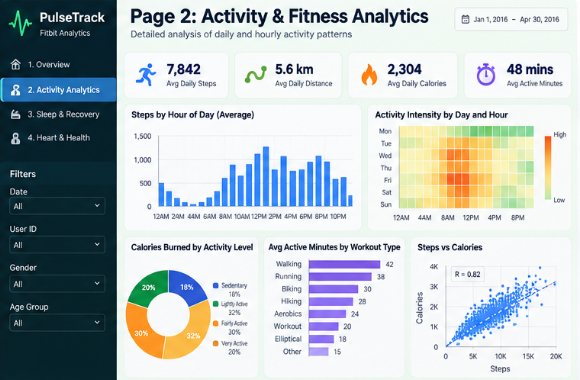

The dashboard page shown, as its layout file describes it:
{"tool":"powerbi","page":{"name":"Activity Analytics","canvas":[1280,720],"ordinal":1},"visuals":[{"type":"shape","box":[0,0,200,720],"z":0},{"type":"shape","box":[12,126,176,36],"z":1000},{"type":"textbox","box":[14,14,180.2,55.8],"z":2000},{"type":"textbox","box":[20,89,168,28],"z":3000},{"type":"textbox","box":[20,131,168,28],"z":4000},{"type":"textbox","box":[20,173,168,28],"z":5000},{"type":"textbox","box":[20,215,168,28],"z":6000},{"type":"actionButton","box":[12,84,176,36],"z":7000},{"type":"actionButton","box":[12,126,176,36],"z":8000},{"type":"actionButton","box":[12,168,176,36],"z":9000},{"type":"actionButton","box":[12,210,176,36],"z":10000},{"type":"textbox","box":[13.9,262.2,170.2,44.9],"z":11000},{"type":"slicer","title":"User ID","fields":{"Values":["dim_user.UserLabel"]},"box":[10.5,289.5,176.7,58.1],"z":12000},{"type":"slicer","title":"Activity Segment","fields":{"Values":["dim_user.ActivitySegment"]},"box":[12,358,176,58],"z":13000},{"type":"slicer","title":"Weekday","fields":{"Values":["dim_date.WeekdayName"]},"box":[12,422,176,58],"z":14000},{"type":"textbox","box":[216.2,0,704.2,54.6],"z":15000},{"type":"textbox","box":[216.3,39.5,769.8,30.2],"z":16000},{"type":"slicer","fields":{"Values":["dim_date.Date"]},"box":[1000,14,264,52],"z":17000},{"type":"card","title":"Avg Daily Steps","fields":{"Values":["_Measures.Avg Daily Steps"]},"box":[216,82,253,88],"z":18000},{"type":"card","title":"Total Distance (km)","fields":{"Values":["_Measures.Total Distance Km"]},"box":[481,82,253,88],"z":19000},{"type":"card","title":"Avg Daily Calories","fields":{"Values":["_Measures.Avg Daily Calories"]},"box":[746,82,253,88],"z":20000},{"type":"card","title":"Active Minutes","fields":{"Values":["_Measures.Active Minutes"]},"box":[1011,82,253,88],"z":21000},{"type":"clusteredColumnChart","title":"Steps by Hour of Day (Average)","fields":{"Category":["fact_hourly_steps.Hour"],"Y":["_Measures.Steps by Hour"]},"box":[216,182,480,250],"z":22000},{"type":"pivotTable","title":"Activity Intensity by Day and Hour","fields":{"Columns":["fact_hourly_steps.Hour"],"Rows":["dim_date.WeekdayName"],"Values":["_Measures.Steps by Hour"]},"box":[708,182,556,250],"z":23000},{"type":"donutChart","title":"Calories Burned by Activity Segment","fields":{"Category":["dim_user.ActivitySegment"],"Y":["_Measures.Total Calories"]},"box":[216,444,340,264],"z":24000},{"type":"barChart","title":"Active Minutes by Intensity","fields":{"Y":["_Measures.Very Active Min","_Measures.Fairly Active Min","_Measures.Lightly Active Min"]},"box":[568,444,340,264],"z":25000},{"type":"scatterChart","title":"Steps vs Calories","fields":{"Category":["dim_user.UserLabel"],"X":["_Measures.Avg Daily Steps"],"Y":["_Measures.Avg Daily Calories"]},"box":[920,444,344,264],"z":26000}]}

Visuals, with their boxes on the page's 1280x720 design canvas (x1, y1, x2, y2). These are canvas units, not pixel positions in the 580x380 screenshot, which may show the page scaled, cropped or inside an application window:
shape: [x1=0, y1=0, x2=200, y2=720]
shape: [x1=12, y1=126, x2=188, y2=162]
textbox: [x1=14, y1=14, x2=194, y2=70]
textbox: [x1=20, y1=89, x2=188, y2=117]
textbox: [x1=20, y1=131, x2=188, y2=159]
textbox: [x1=20, y1=173, x2=188, y2=201]
textbox: [x1=20, y1=215, x2=188, y2=243]
actionButton: [x1=12, y1=84, x2=188, y2=120]
actionButton: [x1=12, y1=126, x2=188, y2=162]
actionButton: [x1=12, y1=168, x2=188, y2=204]
actionButton: [x1=12, y1=210, x2=188, y2=246]
textbox: [x1=14, y1=262, x2=184, y2=307]
"User ID" slicer: [x1=10, y1=290, x2=187, y2=348]
"Activity Segment" slicer: [x1=12, y1=358, x2=188, y2=416]
"Weekday" slicer: [x1=12, y1=422, x2=188, y2=480]
textbox: [x1=216, y1=0, x2=920, y2=55]
textbox: [x1=216, y1=40, x2=986, y2=70]
slicer - dim_date.Date: [x1=1000, y1=14, x2=1264, y2=66]
"Avg Daily Steps" card: [x1=216, y1=82, x2=469, y2=170]
"Total Distance (km)" card: [x1=481, y1=82, x2=734, y2=170]
"Avg Daily Calories" card: [x1=746, y1=82, x2=999, y2=170]
"Active Minutes" card: [x1=1011, y1=82, x2=1264, y2=170]
"Steps by Hour of Day (Average)" clusteredColumnChart: [x1=216, y1=182, x2=696, y2=432]
"Activity Intensity by Day and Hour" pivotTable: [x1=708, y1=182, x2=1264, y2=432]
"Calories Burned by Activity Segment" donutChart: [x1=216, y1=444, x2=556, y2=708]
"Active Minutes by Intensity" barChart: [x1=568, y1=444, x2=908, y2=708]
"Steps vs Calories" scatterChart: [x1=920, y1=444, x2=1264, y2=708]
